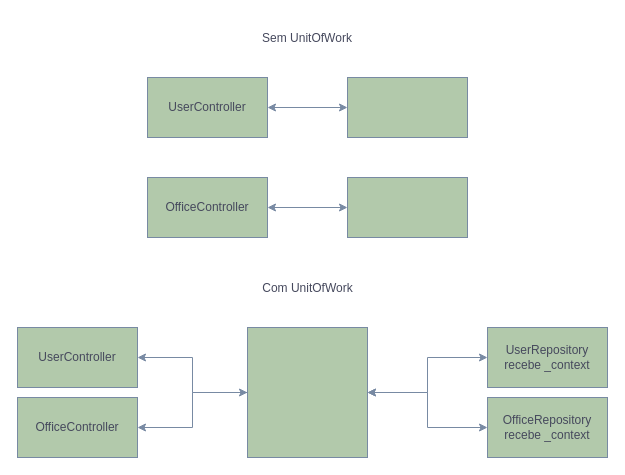
Image size: 625x475. Some labels were removed from this diagram. The shapes that lost their labels are listed below. From the top down, each one's centre as x and y in pixels, then its label:
At (x=407, y=107): "UserRepository com o seu própria instancia do _context".
At (x=407, y=207): "OfficeRepository com o seu própria instancia do _context".
At (x=307, y=392): "UnitOfWork Class relays DbContext instace".
